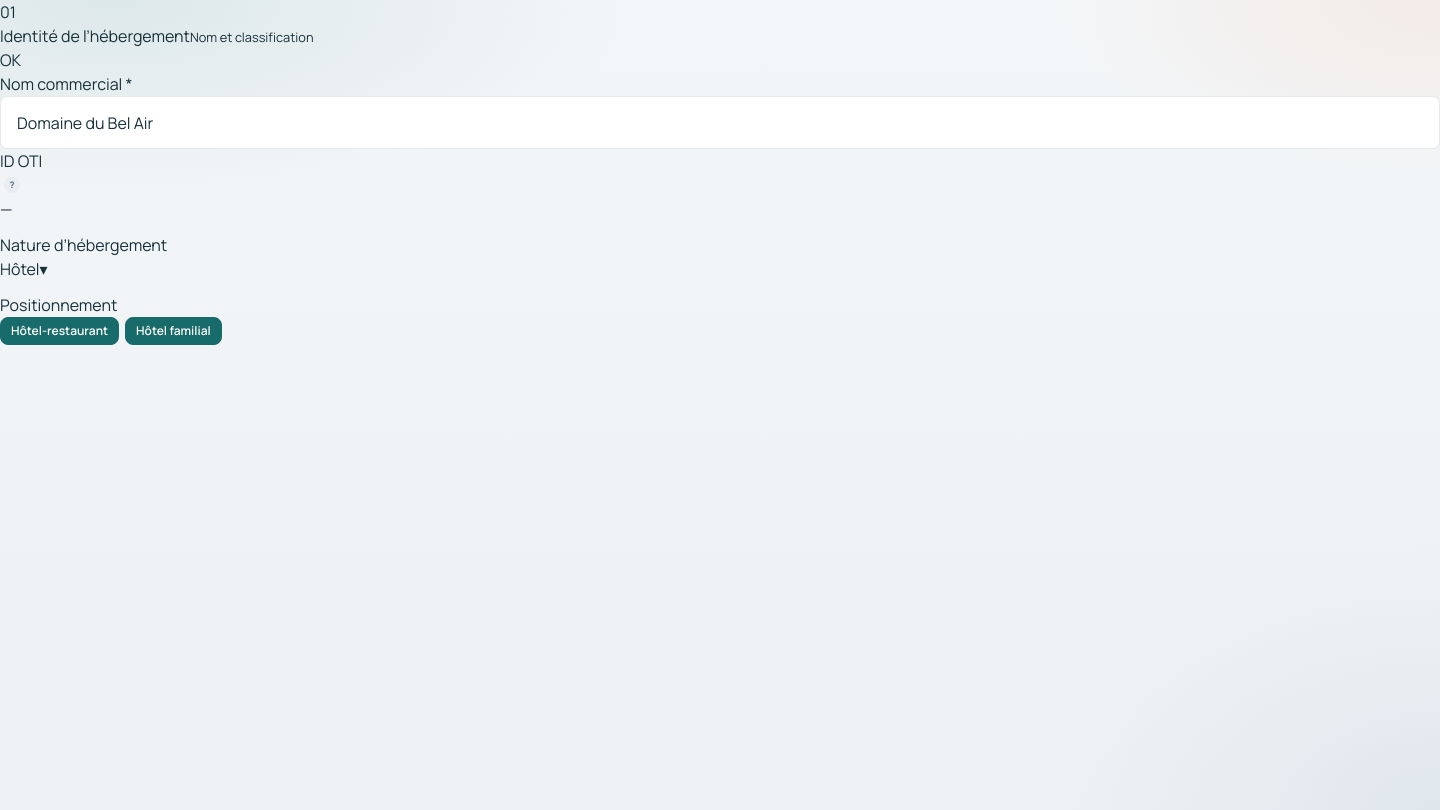
Scenario: SectionIdentity › opens a modal when the taxonomy field is clicked
The width and height of the screenshot is (1440, 810).
Click the button with aria-label "Modifier la nature d’hébergement (actuelle : Hôtel)".
click(24, 269)  # box [0,257,48,281]
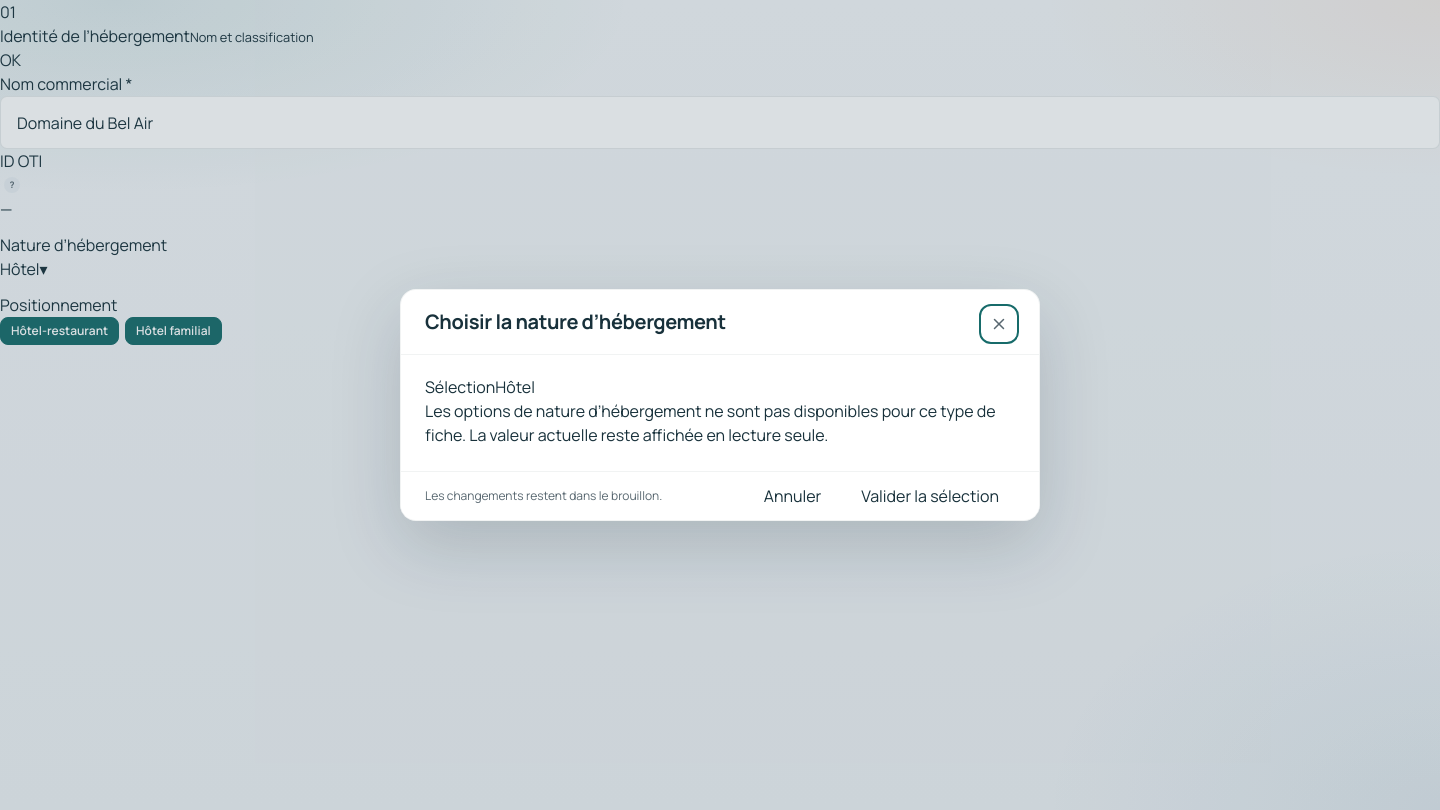
Now the dialog is shown, box [400,289,1040,521]
